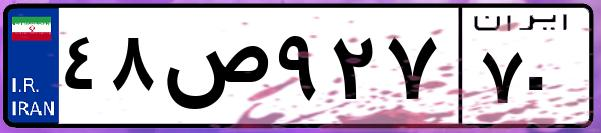0: (525, 38, 570, 115)
2: (330, 28, 385, 110)
4: (57, 26, 110, 100)
7: (385, 28, 445, 110), (475, 38, 525, 113)
8: (110, 28, 158, 98)
9: (270, 28, 330, 110)
ص: (158, 20, 270, 120)
